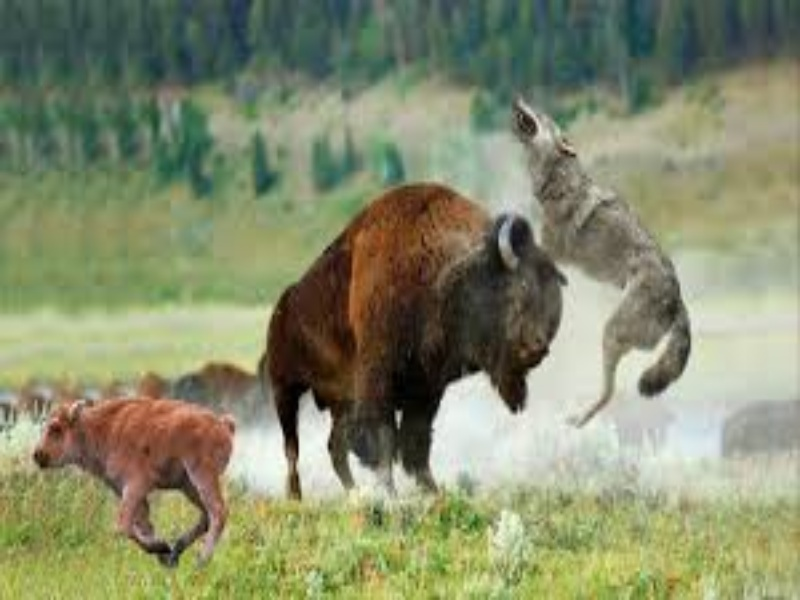buffalo: (253, 179, 573, 528)
